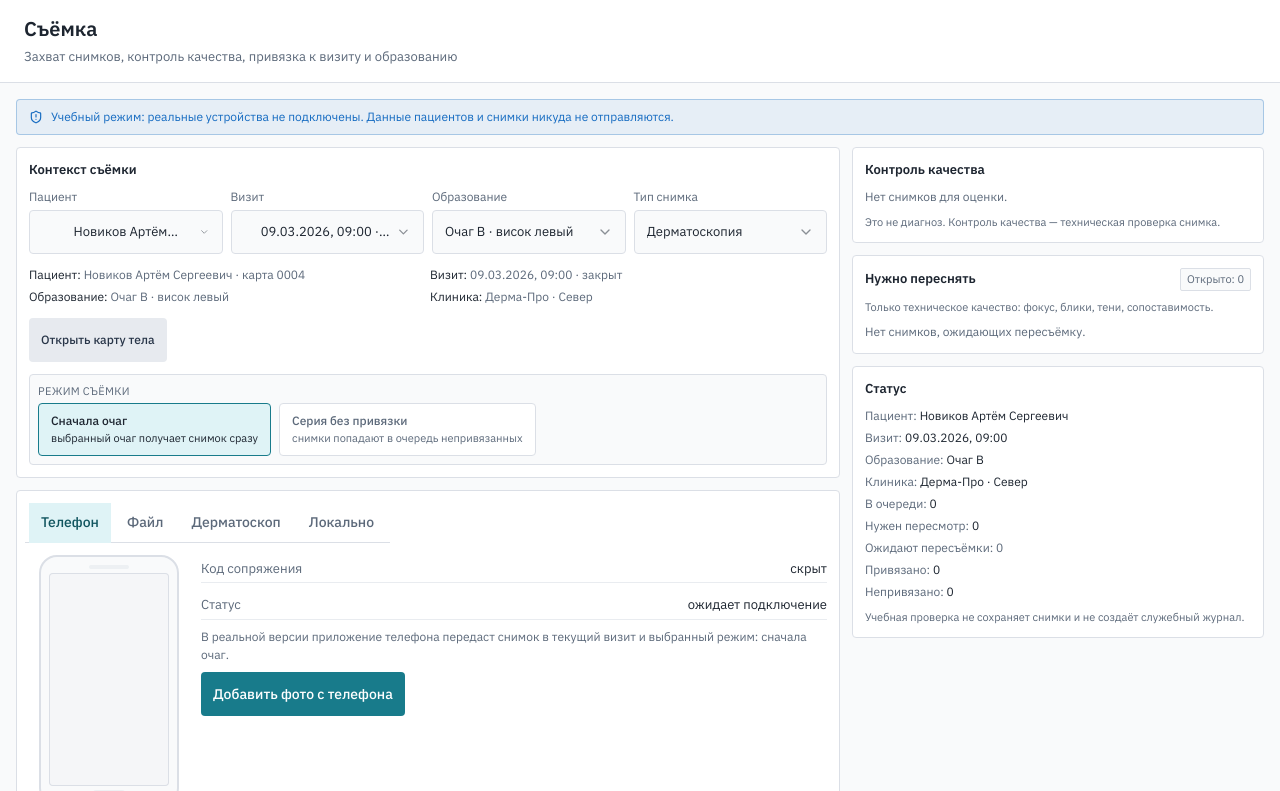
Test case: CapturePage · Batch B capture workflow › lesion-first mode attaches a captured photo to the selected lesion
The image size is (1280, 791).
Click the button "Добавить фото с телефона" at (303, 694), box 201,672 -> 405,716
(page scrolled)
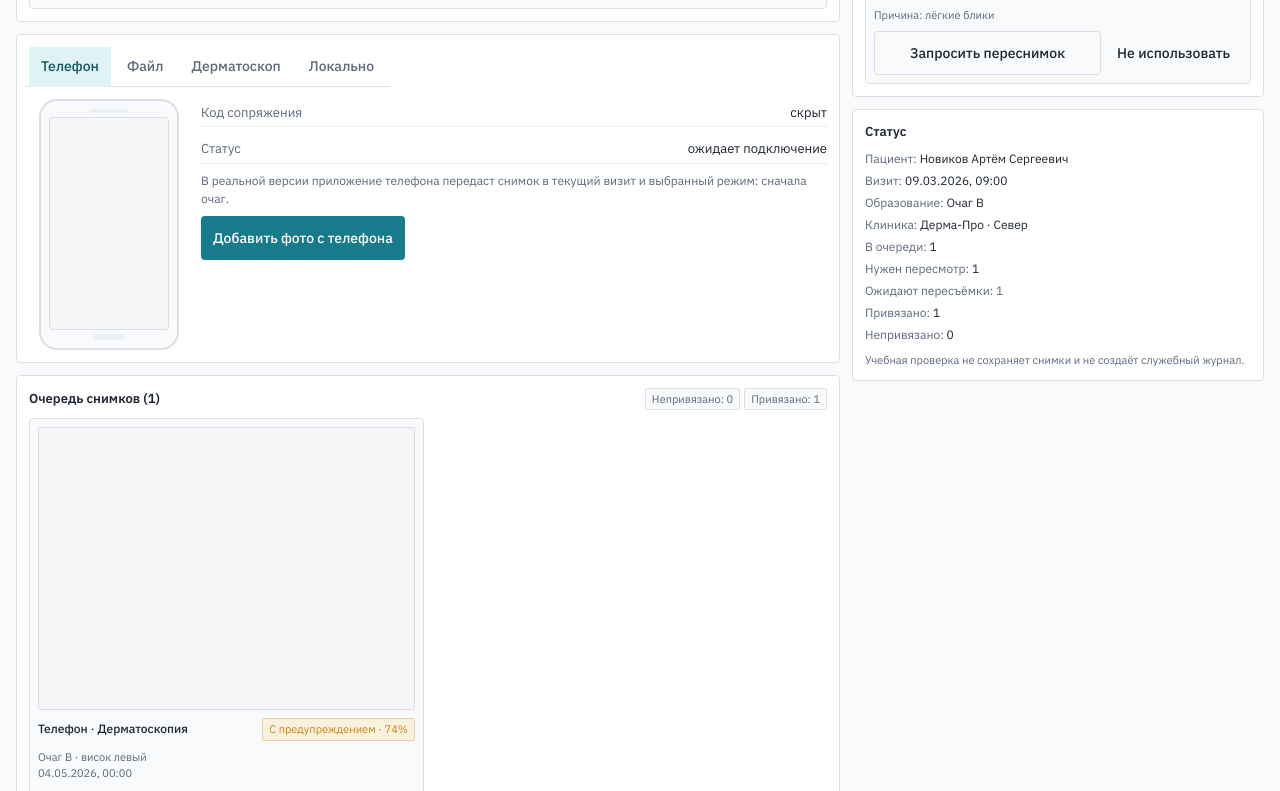
Expected: the text "Непривязано: 0" is shown, 645,388 -> 740,410
Now the text "Очаг B · висок левый04.05.2026, 00:00" is shown, box 38,750 -> 147,780
